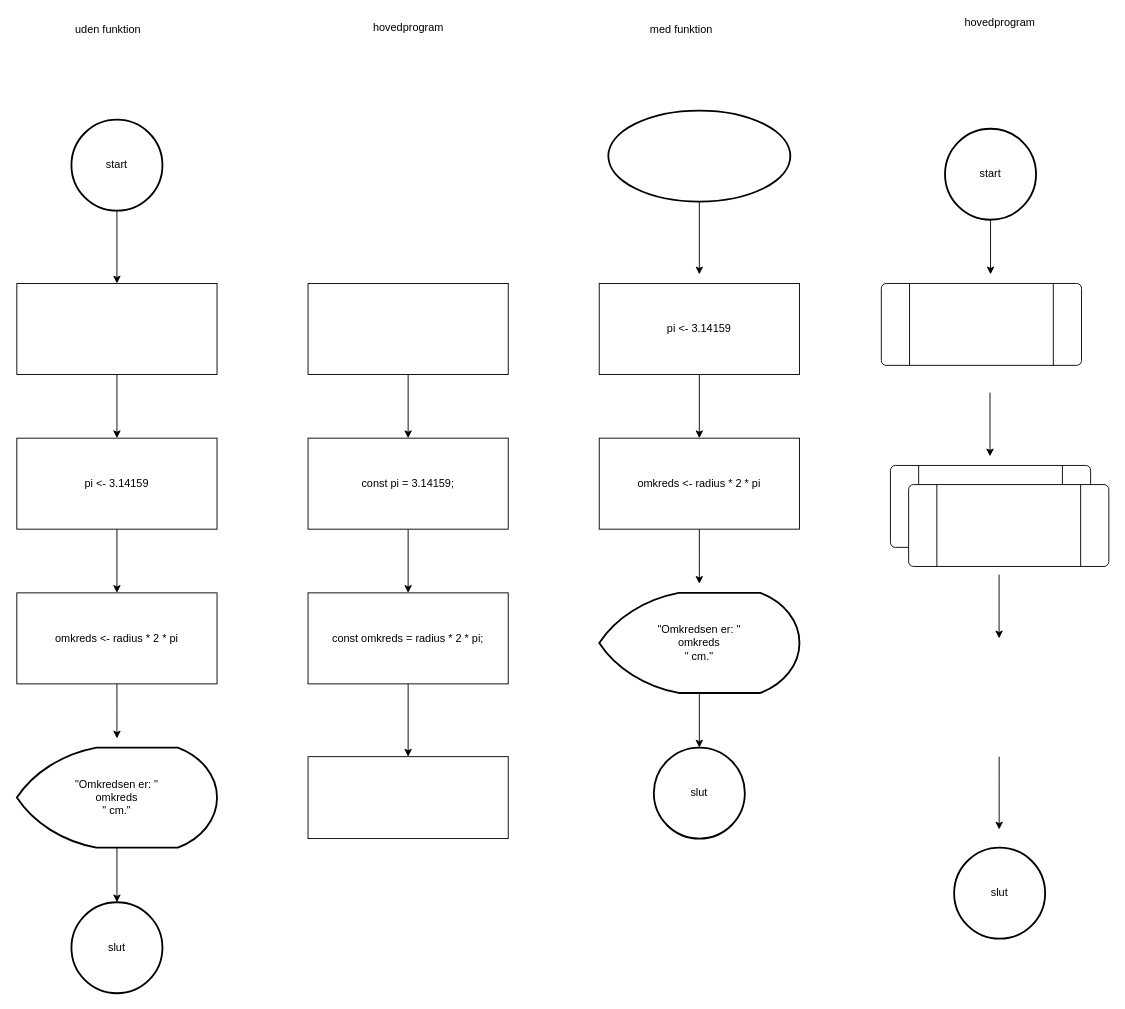
This 1125x1009 diagram has some shape labels left out. The box of each missing label's shape, as (x1, y1, x2, y2) in pixels:
beregnOmkreds(12): (908, 484, 1109, 566)
beregnOmkreds(7.5): (880, 283, 1082, 365)
beregnOmkreds(radius): (607, 109, 791, 202)
console.log("Omkredsen er: " + omkreds * " cm.");: (307, 756, 508, 839)
const radius = 7.5;: (307, 283, 508, 374)
radius <- 7.5: (16, 283, 217, 374)
